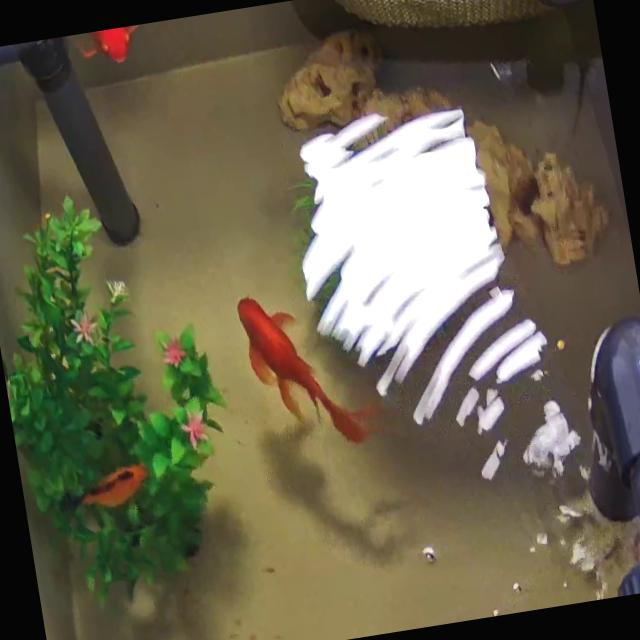fish: (238, 280, 368, 461), (73, 462, 155, 515), (76, 25, 145, 69)
